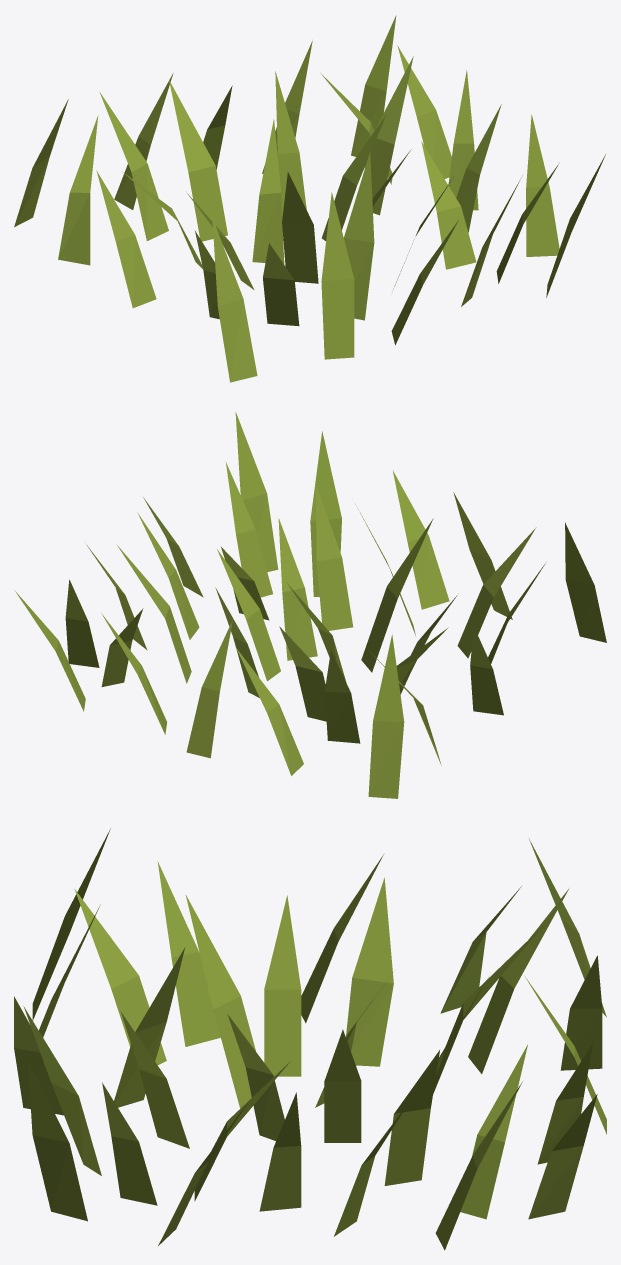
3 renders of one model, top to bottom at view 1: azimuth 30°, elevation 25°; view 2: azimuth 150°, elevation 25°; view 3: azimuth 270°, elevation 25°, orthographic. The views are drawn at different scales.
Size of the model in its own units: 127 by 44 by 128.
1 material, 1 textured.
